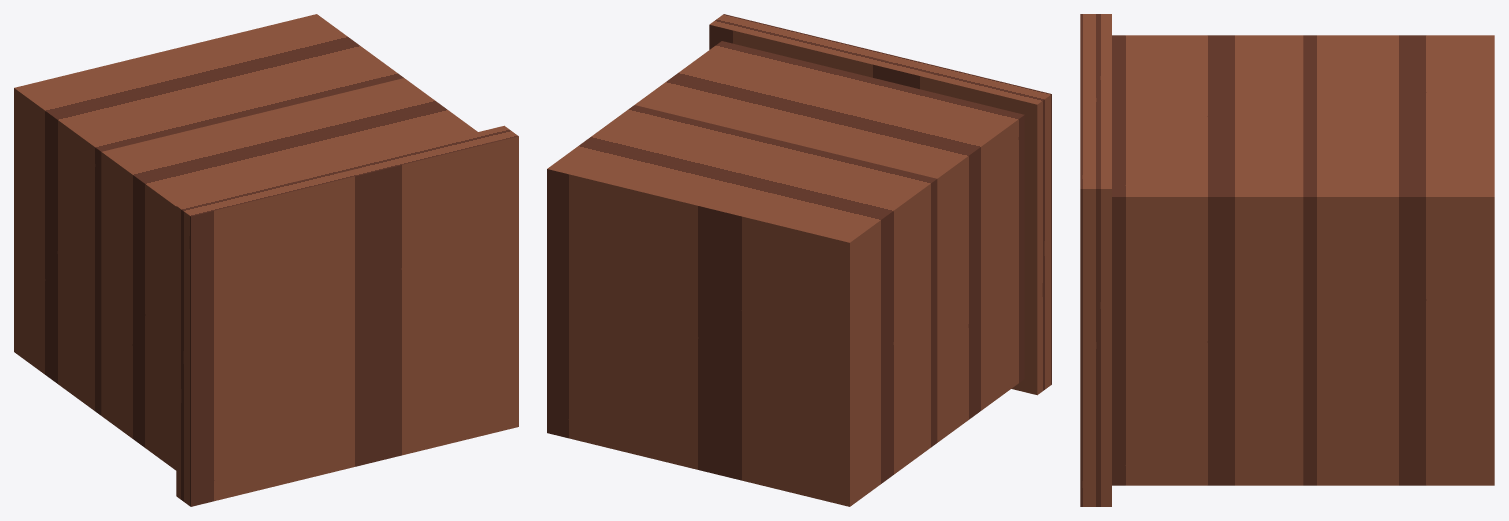
Rendered from drawer.glb.
3 views of the same model, side by side, from view 1: azimuth 30°, elevation 25°; view 2: azimuth 150°, elevation 25°; view 3: azimuth 270°, elevation 25° (orthographic). The views are drawn at different scales.
Parts seen in each view (by area): view 1: drawer; view 2: drawer; view 3: drawer.
Boxes of the visible parts, x1,y1,x2,y2 form: drawer: (14,14,518,506); drawer: (547,14,1051,506); drawer: (1080,14,1494,506).
Size of the model in its own units: 0.8125 by 0.6875 by 0.8125.
1 material, 1 textured.
